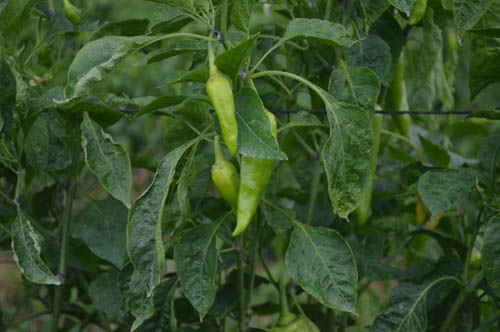ChiliPepper: (232, 108, 281, 245), (339, 101, 382, 227), (199, 72, 242, 155), (384, 53, 419, 145), (204, 154, 242, 216)
